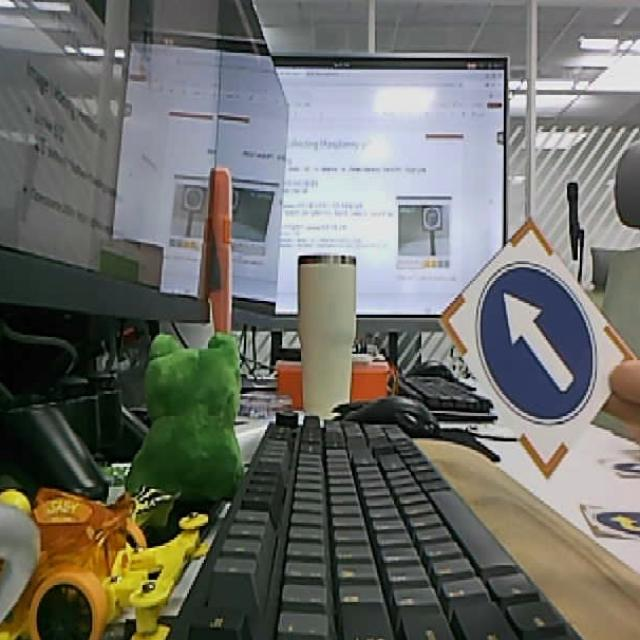straight: (440, 218, 638, 474)
